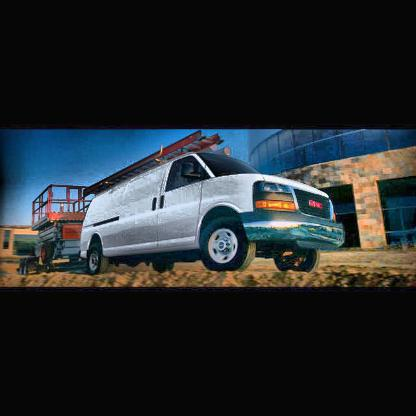GMC Savana Van 2012: (79, 151, 348, 277)
